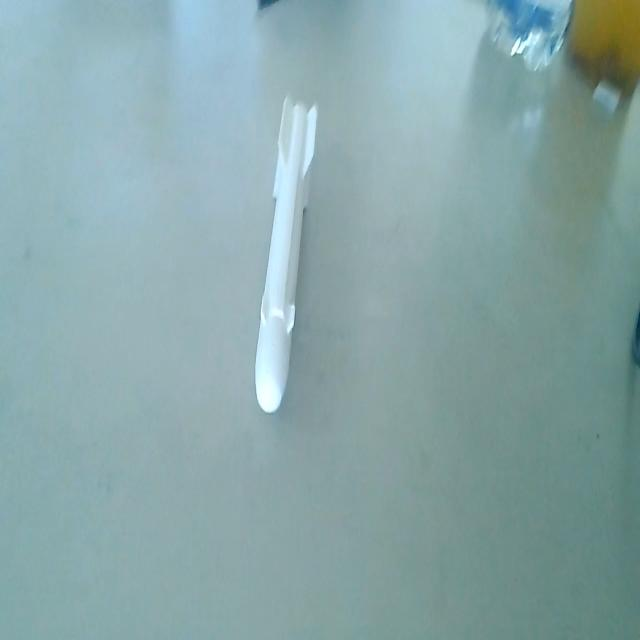Rocket: (254, 92, 322, 420)
